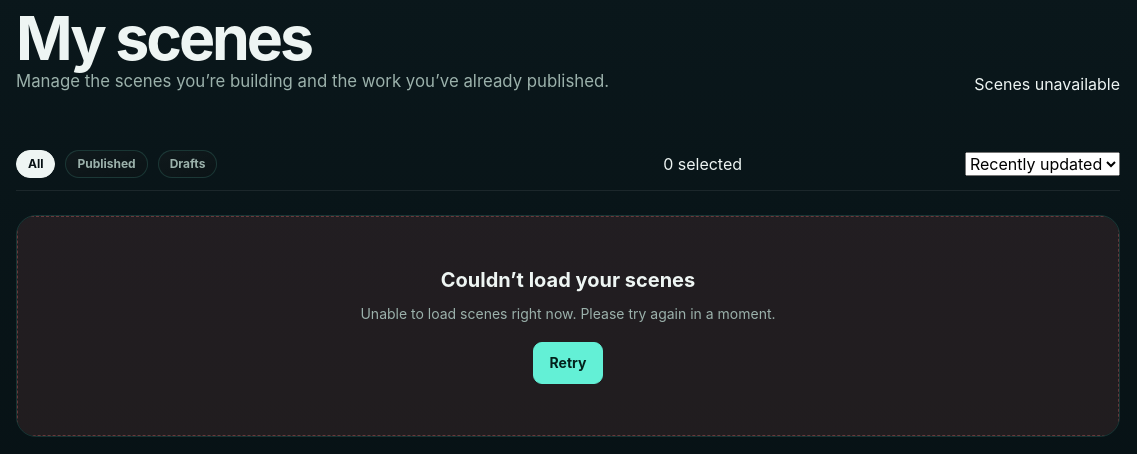
MyScenesPage states › shows empty and error states using simple messages
Check: the text "Unable to load scenes right now. Please try again in a moment." is shown, box [360, 303, 776, 326]
Click the button "Retry": (568, 363) [533, 342, 603, 384]
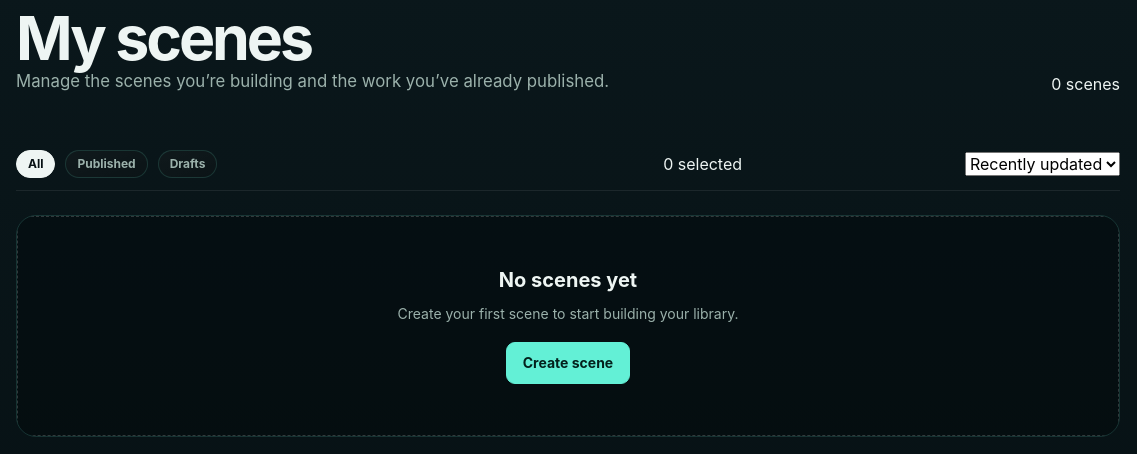
Check: the heading "No scenes yet" is shown, box [499, 268, 637, 293]
